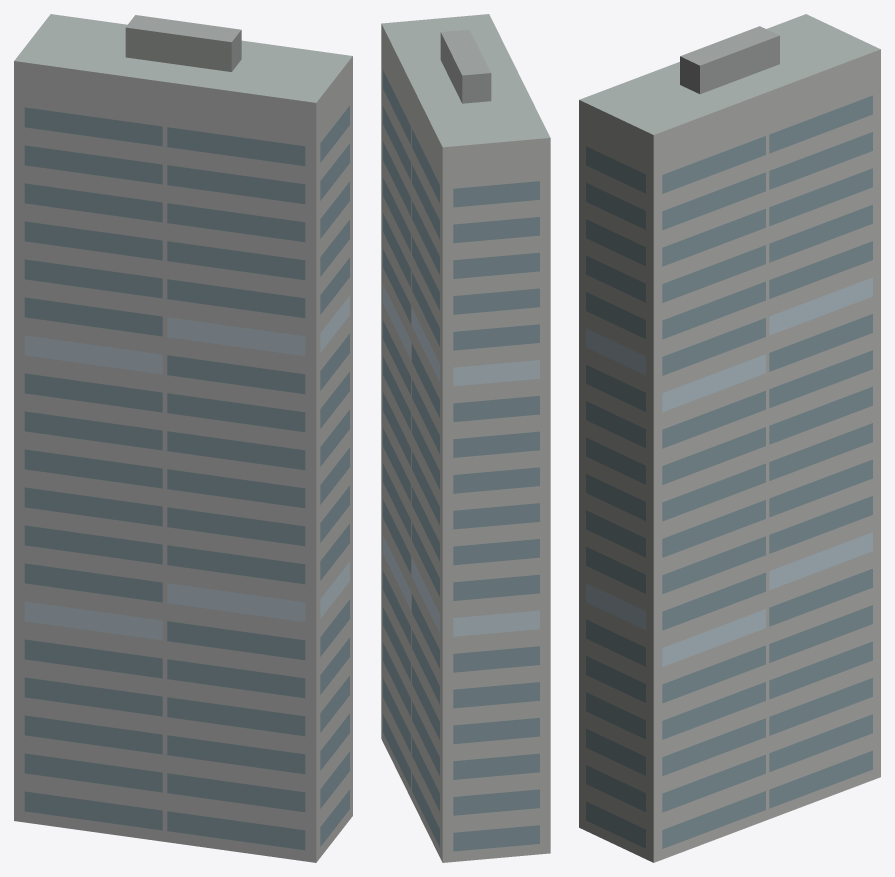
The model's file is fallback-olympic-athletes-village-242.glb.
3 renders of one model, left to right at view 1: azimuth 30°, elevation 25°; view 2: azimuth 150°, elevation 25°; view 3: azimuth 270°, elevation 25°, orthographic. The views are drawn at different scales.
Parts seen in each view (by area): view 1: fallback-olympic-athletes-village-242; view 2: fallback-olympic-athletes-village-242; view 3: fallback-olympic-athletes-village-242.
Part boxes in pixels (x1,y1,x2,y2): fallback-olympic-athletes-village-242: (14, 14, 352, 862); fallback-olympic-athletes-village-242: (381, 14, 550, 862); fallback-olympic-athletes-village-242: (579, 14, 880, 862).
Size of the model in its own units: 21.76 by 63.4 by 22.92.
